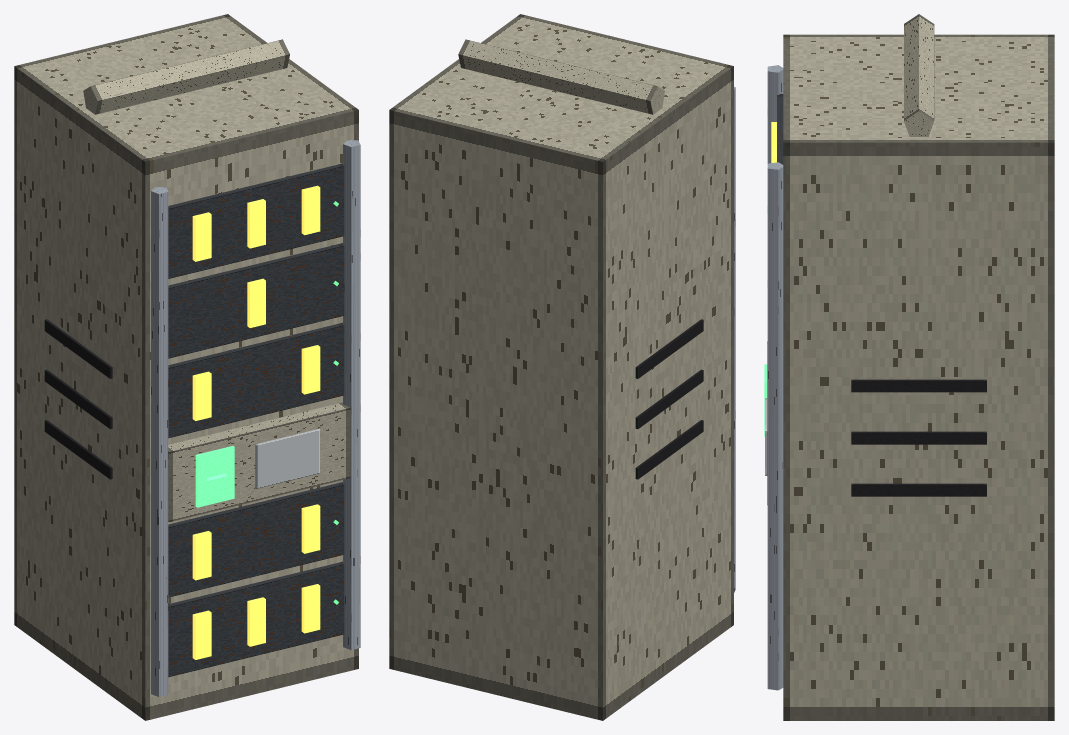
The model's file is server_rack_habitation_worn.glb.
3 renders of one model, left to right at view 1: azimuth 30°, elevation 25°; view 2: azimuth 150°, elevation 25°; view 3: azimuth 270°, elevation 25°, orthographic. The views are drawn at different scales.
Parts seen in each view (by area): view 1: server_rack_habitation_worn; view 2: server_rack_habitation_worn; view 3: server_rack_habitation_worn.
Boxes of the visible parts, x1,y1,x2,y2 form: server_rack_habitation_worn: (14, 14, 360, 720); server_rack_habitation_worn: (389, 14, 735, 720); server_rack_habitation_worn: (764, 14, 1054, 720).
Size of the model in its own units: 0.818 by 2.09 by 0.91.
Materials: 9 (9 with a texture image).
